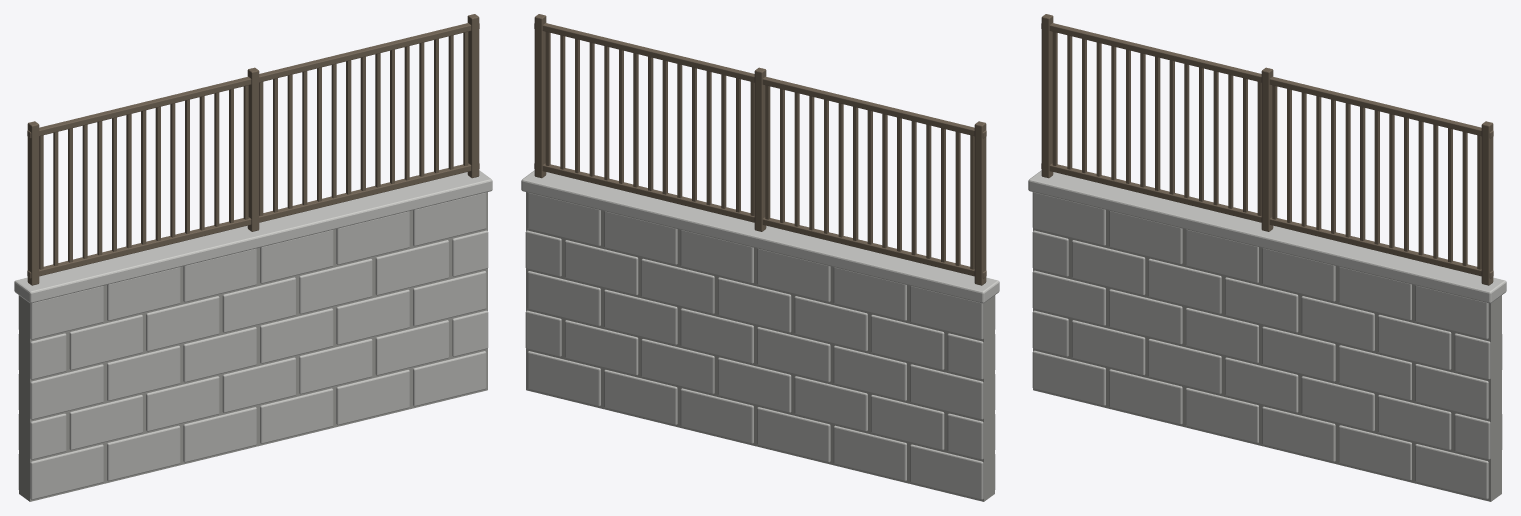
Rendered from city-concrete-block-wall-with-fence.glb.
3 renders of one model, left to right at view 1: azimuth 30°, elevation 25°; view 2: azimuth 150°, elevation 25°; view 3: azimuth 330°, elevation 25°, orthographic.
Parts seen in each view (by area): view 1: Assembly | Grey concrete block, Assembly | Bronze aluminium fence, Assembly | Precast coping stone, Assembly | Recessed mortar joint; view 2: Assembly | Grey concrete block, Assembly | Bronze aluminium fence, Assembly | Precast coping stone, Assembly | Recessed mortar joint; view 3: Assembly | Grey concrete block, Assembly | Bronze aluminium fence, Assembly | Precast coping stone, Assembly | Recessed mortar joint.
Part boxes in pixels (left/top/right/bottom): Assembly | Grey concrete block: left=18, top=192, right=488, bottom=499; Assembly | Bronze aluminium fence: left=27, top=14, right=479, bottom=285; Assembly | Precast coping stone: left=14, top=170, right=492, bottom=303; Assembly | Recessed mortar joint: left=19, top=192, right=487, bottom=501; Assembly | Grey concrete block: left=525, top=192, right=995, bottom=499; Assembly | Bronze aluminium fence: left=534, top=14, right=986, bottom=285; Assembly | Precast coping stone: left=521, top=170, right=999, bottom=303; Assembly | Recessed mortar joint: left=526, top=192, right=994, bottom=501; Assembly | Grey concrete block: left=1032, top=192, right=1502, bottom=499; Assembly | Bronze aluminium fence: left=1041, top=14, right=1493, bottom=285; Assembly | Precast coping stone: left=1028, top=170, right=1506, bottom=303; Assembly | Recessed mortar joint: left=1033, top=210, right=1501, bottom=501.
Size of the model in its own units: 2.42 by 1.86 by 0.15.
